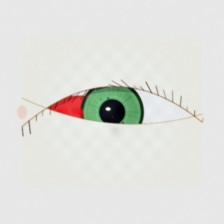hemorrhage_spot: (33, 71, 124, 144)
